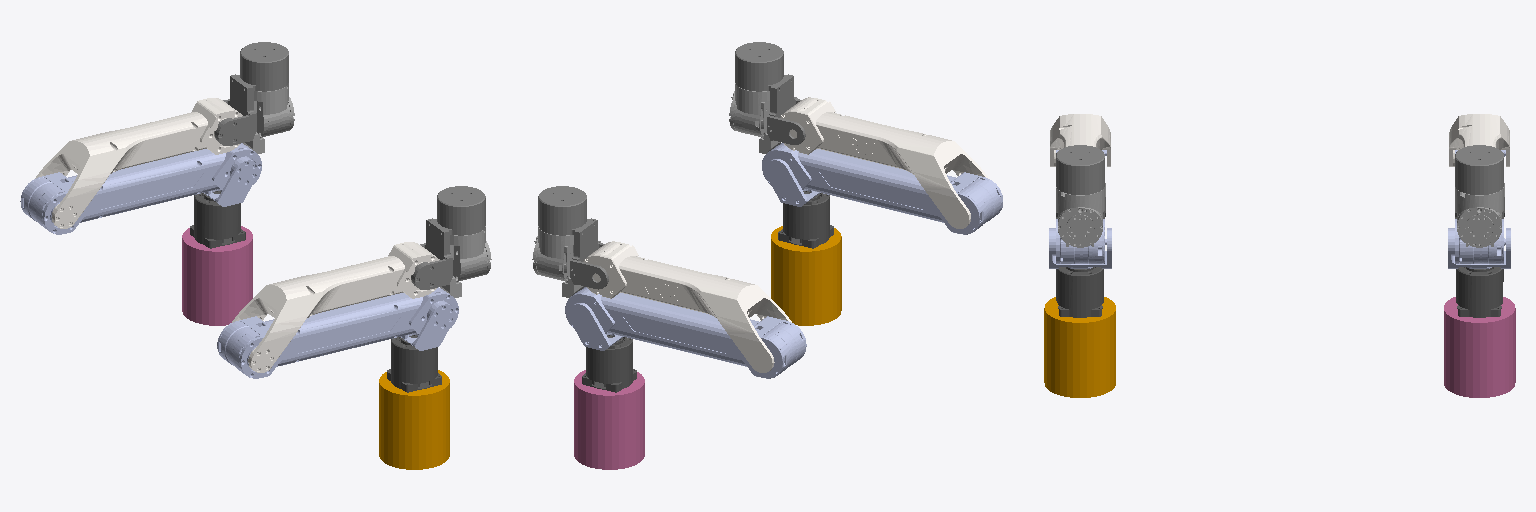
URDF robot description (dual_x5_2025_ipc_articulated_gripper):
<?xml version='1.0' encoding='utf-8'?>
<robot name="dual_x5_2025_ipc_articulated_gripper">
  <link name="base_link">
    <inertial>
      <origin xyz="-0.010039 0.0013761 0.04956" rpy="0 0 0" />
      <mass value="21.045" />
      <inertia ixx="1.70029164" ixy="-0.00073232" ixz="-0.03255532" iyy="1.70804910" iyz="-0.00688370" izz="0.97173287" />
    </inertial>
  </link>
  <link name="legacy_padding_1">
    <inertial>
      <origin xyz="0.035966 2.6831E-06 8.693E-07" rpy="0 0 0" />
      <mass value="0.5746" />
      <inertia ixx="0.00142306" ixy="0.00000000" ixz="0.00000000" iyy="0.00084449" iyz="0.00000002" izz="0.00084474" />
    </inertial>
  </link>
  <joint name="joint1" type="continuous">
    <origin xyz="0.15361 0.29246 -0.093" rpy="0 0 1.0472" />
    <parent link="base_link" />
    <child link="legacy_padding_1" />
    <axis xyz="1 0 0" />
    <limit effort="17" velocity="27" />
  </joint>
  <link name="legacy_padding_2">
    <inertial>
      <origin xyz="0.035966 2.8161E-06 7.9768E-09" rpy="0 0 0" />
      <mass value="0.5746" />
      <inertia ixx="0.00142306" ixy="0.00000000" ixz="0.00000000" iyy="0.00084449" iyz="0.00000002" izz="0.00084474" />
    </inertial>
  </link>
  <joint name="joint2" type="continuous">
    <origin xyz="0.15361 -0.29245 -0.093" rpy="0 0 -1.0472" />
    <parent link="base_link" />
    <child link="legacy_padding_2" />
    <axis xyz="1 0 0" />
    <limit effort="17" velocity="27" />
  </joint>
  <link name="legacy_padding_3">
    <inertial>
      <origin xyz="-0.035971 2.8084E-06 -1.6209E-07" rpy="0 0 0" />
      <mass value="0.5746" />
      <inertia ixx="0.00142306" ixy="0.00000000" ixz="0.00000000" iyy="0.00084449" iyz="0.00000002" izz="0.00084474" />
    </inertial>
  </link>
  <joint name="joint3" type="continuous">
    <origin xyz="-0.35293 0 -0.093" rpy="0 0 0" />
    <parent link="base_link" />
    <child link="legacy_padding_3" />
    <axis xyz="-1 0 0" />
    <limit effort="17" velocity="27" />
  </joint>
  <link name="body4">
    <inertial>
      <origin xyz="-0.053315 -0.00061422 -0.0086454" rpy="0 0 0" />
      <mass value="14.181" />
      <inertia ixx="0.32744849" ixy="-0.00306617" ixz="0.05920163" iyy="0.36541112" iyz="0.00117932" izz="0.49616592" />
    </inertial>
  </link>
  <joint name="joint4" type="fixed">
    <origin xyz="0.094118 0.0010067 0.77" rpy="0 0 0" />
    <parent link="base_link" />
    <child link="body4" />
    <axis xyz="0 0 1" />
    <limit lower="0" upper="0.46" effort="400" velocity="0.15" />
  </joint>
  <link name="left_link11">
    <inertial>
      <origin xyz="0.00542314085032451 -0.00802886588436214 0.0170855431023106" rpy="0 0 0" />
      <mass value="0.066982101964648" />
      <inertia ixx="0.00008086" ixy="0.00000207" ixz="-0.00000876" iyy="0.00003211" iyz="0.00000440" izz="0.00007702" />
    </inertial>
    <visual>
      <origin xyz="0 0 0" rpy="0 0 0" />
      <geometry>
        <mesh filename="meshes/link1.STL" />
      </geometry>
      <material name="">
        <color rgba="0.792156862745098 0.819607843137255 0.933333333333333 1" />
      </material>
    </visual>
    <collision>
      <origin xyz="0 0 0" rpy="0 0 0" />
      <geometry>
        <mesh filename="meshes/link1.STL" />
      </geometry>
    </collision>
  </link>
  <joint name="left_joint11" type="revolute">
    <origin xyz="0.059949 0.25 0.0245" rpy="0 0 0" />
    <parent link="body4" />
    <child link="left_link11" />
    <axis xyz="0 0 1" />
    <limit lower="-2.094" upper="3.1416" effort="27" velocity="5.5" />
  </joint>
  <link name="left_link12">
    <inertial>
      <origin xyz="-0.132335419642583 -0.00401655346537838 0.00010940501314316" rpy="0 0 0" />
      <mass value="1.10681273913005" />
      <inertia ixx="0.00054299" ixy="-0.00000184" ixz="0.00003884" iyy="0.01652639" iyz="-0.00000035" izz="0.01654931" />
    </inertial>
    <visual>
      <origin xyz="0 0 0" rpy="0 0 0" />
      <geometry>
        <mesh filename="meshes/link2.STL" />
      </geometry>
      <material name="">
        <color rgba="0.792156862745098 0.819607843137255 0.933333333333333 1" />
      </material>
    </visual>
    <collision>
      <origin xyz="0 0 0" rpy="0 0 0" />
      <geometry>
        <mesh filename="meshes/link2.STL" />
      </geometry>
    </collision>
  </link>
  <joint name="left_joint12" type="revolute">
    <origin xyz="0.02 0 0.04" rpy="0 0 0" />
    <parent link="left_link11" />
    <child link="left_link12" />
    <axis xyz="0 1 0" />
    <limit lower="0" upper="3.665" effort="27" velocity="5.5" />
  </joint>
  <link name="left_link13">
    <inertial>
      <origin xyz="0.185438849130002 -0.000713687803552077 0.0516279411592777" rpy="0 0 0" />
      <mass value="0.543164013838109" />
      <inertia ixx="0.00036398" ixy="-0.00002814" ixz="-0.00039418" iyy="0.00422770" iyz="-0.00001179" izz="0.00419421" />
    </inertial>
    <visual>
      <origin xyz="0 0 0" rpy="0 0 0" />
      <geometry>
        <mesh filename="meshes/link3.STL" />
      </geometry>
      <material name="">
        <color rgba="1 0.984313725490196 0.964705882352941 1" />
      </material>
    </visual>
    <collision>
      <origin xyz="0 0 0" rpy="0 0 0" />
      <geometry>
        <mesh filename="meshes/link3.STL" />
      </geometry>
    </collision>
  </link>
  <joint name="left_joint13" type="revolute">
    <origin xyz="-0.264 3E-05 0" rpy="0 0 0" />
    <parent link="left_link12" />
    <child link="left_link13" />
    <axis xyz="0 -1 0" />
    <limit lower="0" upper="3.24" effort="27" velocity="5.5" />
  </joint>
  <link name="left_link14">
    <inertial>
      <origin xyz="0.0399662666191703 -0.00430452596262934 0.0350064737242635" rpy="0 0 0" />
      <mass value="0.118272367738645" />
      <inertia ixx="0.00019329" ixy="-0.00001619" ixz="-0.00008654" iyy="0.00023401" iyz="-0.00001744" izz="0.00014391" />
    </inertial>
    <visual>
      <origin xyz="0 0 0" rpy="0 0 0" />
      <geometry>
        <mesh filename="meshes/link4.STL" />
      </geometry>
      <material name="">
        <color rgba="0.564705882352941 0.564705882352941 0.564705882352941 1" />
      </material>
    </visual>
    <collision>
      <origin xyz="0 0 0" rpy="0 0 0" />
      <geometry>
        <mesh filename="meshes/link4.STL" />
      </geometry>
    </collision>
  </link>
  <joint name="left_joint14" type="revolute">
    <origin xyz="0.245 -3E-05 0.056" rpy="0 0 0" />
    <parent link="left_link13" />
    <child link="left_link14" />
    <axis xyz="0 -1 0" />
    <limit lower="-1.571" upper="1.571" effort="7" velocity="20" />
  </joint>
  <link name="left_link15">
    <inertial>
      <origin xyz="0.00294914453074186 8.40861931291625E-05 -0.0547949421237858" rpy="0 0 0" />
      <mass value="0.673984769720165" />
      <inertia ixx="0.00092704" ixy="0.00000049" ixz="0.00004559" iyy="0.00091568" iyz="0.00000053" izz="0.00028327" />
    </inertial>
    <visual>
      <origin xyz="0 0 0" rpy="0 0 0" />
      <geometry>
        <mesh filename="meshes/link5.STL" />
      </geometry>
      <material name="">
        <color rgba="0.698039215686274 0.698039215686274 0.698039215686274 1" />
      </material>
    </visual>
    <collision>
      <origin xyz="0 0 0" rpy="0 0 0" />
      <geometry>
        <mesh filename="meshes/left_link15_ipc_hull.obj" />
      </geometry>
    </collision>
  </link>
  <joint name="left_joint15" type="revolute">
    <origin xyz="0.06775 0 0.0845" rpy="0 0 0" />
    <parent link="left_link14" />
    <child link="left_link15" />
    <axis xyz="0 0 -1" />
    <limit lower="-1.571" upper="1.571" effort="7" velocity="20" />
  </joint>
  <link name="left_link16">
    <inertial>
      <origin xyz="0.040212 3.4542E-05 -0.010225" rpy="0 0 0" />
      <mass value="0.34667" />
      <inertia ixx="0.00047210" ixy="-0.00000041" ixz="-0.00002976" iyy="0.00049011" iyz="-0.00003393" izz="0.00018496" />
    </inertial>
    <visual>
      <origin xyz="0 0 0" rpy="0 0 0" />
      <geometry>
        <mesh filename="meshes/62449317_left_link16.STL" />
      </geometry>
      <material name="">
        <color rgba="0.89804 0.91765 0.92941 1" />
      </material>
    </visual>
    <collision>
      <origin xyz="0 0 0" rpy="0 0 0" />
      <geometry>
        <mesh filename="meshes/left_link16_ipc_hull.obj" />
      </geometry>
    </collision>
  </link>
  <joint name="left_joint16" type="revolute">
    <origin xyz="0.02895 0 -0.0845" rpy="0 0 0" />
    <parent link="left_link15" />
    <child link="left_link16" />
    <axis xyz="1 0 0" />
    <limit lower="-1.9635" upper="2.094" effort="7" velocity="20" />
  </joint>
  <link name="left_link17">
    <inertial>
      <origin xyz="-0.0060354 -0.015602 0.013499" rpy="0 0 0" />
      <mass value="0.08924" />
      <inertia ixx="0.00009869" ixy="-0.00000394" ixz="0.00001011" iyy="0.00009021" iyz="0.00001113" izz="0.00006849" />
    </inertial>
    <visual>
      <origin xyz="0 0 0" rpy="0 0 0" />
      <geometry>
        <mesh filename="meshes/456a019e_left_link17.STL" />
      </geometry>
      <material name="">
        <color rgba="1 1 1 1" />
      </material>
    </visual>
    <collision>
      <origin xyz="0 0 0" rpy="0 0 0" />
      <geometry>
        <mesh filename="meshes/456a019e_left_link17.STL" />
      </geometry>
    </collision>
  </link>
  <joint name="left_joint17" type="prismatic">
    <origin xyz="0.08397 0.02721 -0.0062702" rpy="0 0 0" />
    <parent link="left_link16" />
    <child link="left_link17" />
    <axis xyz="0 1 0" />
    <limit lower="0" upper="0.044" effort="300" velocity="0.053" />
  </joint>
  <link name="left_link18">
    <inertial>
      <origin xyz="-0.00581 0.015593 -0.012255" rpy="0 0 0" />
      <mass value="0.089402" />
      <inertia ixx="0.00007306" ixy="0.00000404" ixz="-0.00001526" iyy="0.00006428" iyz="0.00000327" izz="0.00006822" />
    </inertial>
    <visual>
      <origin xyz="0 0 0" rpy="0 0 0" />
      <geometry>
        <mesh filename="meshes/e3fbb293_left_link18.STL" />
      </geometry>
      <material name="">
        <color rgba="1 1 1 1" />
      </material>
    </visual>
    <collision>
      <origin xyz="0 0 0" rpy="0 0 0" />
      <geometry>
        <mesh filename="meshes/e3fbb293_left_link18.STL" />
      </geometry>
    </collision>
  </link>
  <joint name="left_joint18" type="prismatic">
    <origin xyz="0.08397 -0.023638 -0.0062703" rpy="0 0 0" />
    <parent link="left_link16" />
    <child link="left_link18" />
    <axis xyz="0 -1 0" />
    <limit lower="0" upper="0.044" effort="300" velocity="0.053" />
  </joint>
  <link name="right_link21">
    <inertial>
      <origin xyz="0.00542314085032451 -0.00802886588436214 0.0170855431023106" rpy="0 0 0" />
      <mass value="0.066982101964648" />
      <inertia ixx="0.00008086" ixy="0.00000207" ixz="-0.00000876" iyy="0.00003211" iyz="0.00000440" izz="0.00007702" />
    </inertial>
    <visual>
      <origin xyz="0 0 0" rpy="0 0 0" />
      <geometry>
        <mesh filename="meshes/link1.STL" />
      </geometry>
      <material name="">
        <color rgba="0.792156862745098 0.819607843137255 0.933333333333333 1" />
      </material>
    </visual>
    <collision>
      <origin xyz="0 0 0" rpy="0 0 0" />
      <geometry>
        <mesh filename="meshes/link1.STL" />
      </geometry>
    </collision>
  </link>
  <joint name="right_joint21" type="revolute">
    <origin xyz="0.059949 -0.25 0.0245" rpy="0 0 0" />
    <parent link="body4" />
    <child link="right_link21" />
    <axis xyz="0 0 1" />
    <limit lower="-2.094" upper="3.1416" effort="27" velocity="5.5" />
  </joint>
  <link name="right_link22">
    <inertial>
      <origin xyz="-0.132335419642583 -0.00401655346537838 0.00010940501314316" rpy="0 0 0" />
      <mass value="1.10681273913005" />
      <inertia ixx="0.00054299" ixy="-0.00000184" ixz="0.00003884" iyy="0.01652639" iyz="-0.00000035" izz="0.01654931" />
    </inertial>
    <visual>
      <origin xyz="0 0 0" rpy="0 0 0" />
      <geometry>
        <mesh filename="meshes/link2.STL" />
      </geometry>
      <material name="">
        <color rgba="0.792156862745098 0.819607843137255 0.933333333333333 1" />
      </material>
    </visual>
    <collision>
      <origin xyz="0 0 0" rpy="0 0 0" />
      <geometry>
        <mesh filename="meshes/link2.STL" />
      </geometry>
    </collision>
  </link>
  <joint name="right_joint22" type="revolute">
    <origin xyz="0.02 0 0.04" rpy="0 0 0" />
    <parent link="right_link21" />
    <child link="right_link22" />
    <axis xyz="0 1 0" />
    <limit lower="0" upper="3.665" effort="27" velocity="5.5" />
  </joint>
  <link name="right_link23">
    <inertial>
      <origin xyz="0.185438849130002 -0.000713687803552077 0.0516279411592777" rpy="0 0 0" />
      <mass value="0.543164013838109" />
      <inertia ixx="0.00036398" ixy="-0.00002814" ixz="-0.00039418" iyy="0.00422770" iyz="-0.00001179" izz="0.00419421" />
    </inertial>
    <visual>
      <origin xyz="0 0 0" rpy="0 0 0" />
      <geometry>
        <mesh filename="meshes/link3.STL" />
      </geometry>
      <material name="">
        <color rgba="1 0.984313725490196 0.964705882352941 1" />
      </material>
    </visual>
    <collision>
      <origin xyz="0 0 0" rpy="0 0 0" />
      <geometry>
        <mesh filename="meshes/link3.STL" />
      </geometry>
    </collision>
  </link>
  <joint name="right_joint23" type="revolute">
    <origin xyz="-0.264 3E-05 0" rpy="0 0 0" />
    <parent link="right_link22" />
    <child link="right_link23" />
    <axis xyz="0 -1 0" />
    <limit lower="0" upper="3.24" effort="27" velocity="5.5" />
  </joint>
  <link name="right_link24">
    <inertial>
      <origin xyz="0.0399662666191703 -0.00430452596262934 0.0350064737242635" rpy="0 0 0" />
      <mass value="0.118272367738645" />
      <inertia ixx="0.00019329" ixy="-0.00001619" ixz="-0.00008654" iyy="0.00023401" iyz="-0.00001744" izz="0.00014391" />
    </inertial>
    <visual>
      <origin xyz="0 0 0" rpy="0 0 0" />
      <geometry>
        <mesh filename="meshes/link4.STL" />
      </geometry>
      <material name="">
        <color rgba="0.564705882352941 0.564705882352941 0.564705882352941 1" />
      </material>
    </visual>
    <collision>
      <origin xyz="0 0 0" rpy="0 0 0" />
      <geometry>
        <mesh filename="meshes/link4.STL" />
      </geometry>
    </collision>
  </link>
  <joint name="right_joint24" type="revolute">
    <origin xyz="0.245 -3E-05 0.056" rpy="0 0 0" />
    <parent link="right_link23" />
    <child link="right_link24" />
    <axis xyz="0 -1 0" />
    <limit lower="-1.571" upper="1.571" effort="7" velocity="20" />
  </joint>
  <link name="right_link25">
    <inertial>
      <origin xyz="0.00294914453074186 8.40861931291625E-05 -0.0547949421237858" rpy="0 0 0" />
      <mass value="0.673984769720165" />
      <inertia ixx="0.00092704" ixy="0.00000049" ixz="0.00004559" iyy="0.00091568" iyz="0.00000053" izz="0.00028327" />
    </inertial>
    <visual>
      <origin xyz="0 0 0" rpy="0 0 0" />
      <geometry>
        <mesh filename="meshes/link5.STL" />
      </geometry>
      <material name="">
        <color rgba="0.698039215686274 0.698039215686274 0.698039215686274 1" />
      </material>
    </visual>
    <collision>
      <origin xyz="0 0 0" rpy="0 0 0" />
      <geometry>
        <mesh filename="meshes/right_link25_ipc_hull.obj" />
      </geometry>
    </collision>
  </link>
  <joint name="right_joint25" type="revolute">
    <origin xyz="0.06775 0 0.0845" rpy="0 0 0" />
    <parent link="right_link24" />
    <child link="right_link25" />
    <axis xyz="0 0 -1" />
    <limit lower="-1.571" upper="1.571" effort="7" velocity="20" />
  </joint>
  <link name="right_link26">
    <inertial>
      <origin xyz="0.040212 3.4542E-05 -0.010225" rpy="0 0 0" />
      <mass value="0.34667" />
      <inertia ixx="0.00047210" ixy="-0.00000041" ixz="-0.00002976" iyy="0.00049011" iyz="-0.00003393" izz="0.00018496" />
    </inertial>
    <visual>
      <origin xyz="0 0 0" rpy="0 0 0" />
      <geometry>
        <mesh filename="meshes/8d891049_right_link26.STL" />
      </geometry>
      <material name="">
        <color rgba="0.89804 0.91765 0.92941 1" />
      </material>
    </visual>
    <collision>
      <origin xyz="0 0 0" rpy="0 0 0" />
      <geometry>
        <mesh filename="meshes/right_link26_ipc_hull.obj" />
      </geometry>
    </collision>
  </link>
  <joint name="right_joint26" type="revolute">
    <origin xyz="0.02895 0 -0.0845" rpy="0 0 0" />
    <parent link="right_link25" />
    <child link="right_link26" />
    <axis xyz="1 0 0" />
    <limit lower="-1.9635" upper="2.094" effort="7" velocity="20" />
  </joint>
  <link name="right_link27">
    <inertial>
      <origin xyz="-0.0060354 -0.015602 0.013499" rpy="0 0 0" />
      <mass value="0.08924" />
      <inertia ixx="0.00009869" ixy="-0.00000394" ixz="0.00001011" iyy="0.00009021" iyz="0.00001113" izz="0.00006849" />
    </inertial>
    <visual>
      <origin xyz="0 0 0" rpy="0 0 0" />
      <geometry>
        <mesh filename="meshes/d17ab828_right_link27.STL" />
      </geometry>
      <material name="">
        <color rgba="1 1 1 1" />
      </material>
    </visual>
    <collision>
      <origin xyz="0 0 0" rpy="0 0 0" />
      <geometry>
        <mesh filename="meshes/d17ab828_right_link27.STL" />
      </geometry>
    </collision>
  </link>
  <joint name="right_joint27" type="prismatic">
    <origin xyz="0.08397 0.02721 -0.0062702" rpy="0 0 0" />
    <parent link="right_link26" />
    <child link="right_link27" />
    <axis xyz="0 1 0" />
    <limit lower="0" upper="0.044" effort="300" velocity="0.053" />
  </joint>
  <link name="right_link28">
    <inertial>
      <origin xyz="-0.00581 0.015593 -0.012255" rpy="0 0 0" />
      <mass value="0.089402" />
      <inertia ixx="0.00007306" ixy="0.00000404" ixz="-0.00001526" iyy="0.00006428" iyz="0.00000327" izz="0.00006822" />
    </inertial>
    <visual>
      <origin xyz="0 0 0" rpy="0 0 0" />
      <geometry>
        <mesh filename="meshes/98b471b0_right_link28.STL" />
      </geometry>
      <material name="">
        <color rgba="1 1 1 1" />
      </material>
    </visual>
    <collision>
      <origin xyz="0 0 0" rpy="0 0 0" />
      <geometry>
        <mesh filename="meshes/98b471b0_right_link28.STL" />
      </geometry>
    </collision>
  </link>
  <joint name="right_joint28" type="prismatic">
    <origin xyz="0.08397 -0.023638 -0.0062703" rpy="0 0 0" />
    <parent link="right_link26" />
    <child link="right_link28" />
    <axis xyz="0 -1 0" />
    <limit lower="0" upper="0.044" effort="300" velocity="0.053" />
  </joint>
  <link name="left_x5_base">
    <inertial>
      <origin xyz="-2.77E-05 3.2821E-05 0.034516" rpy="0 0 0" />
      <mass value="0.45749" />
      <inertia ixx="0.00019677" ixy="0.00000035" ixz="0.00000051" iyy="0.00019854" iyz="-0.00000100" izz="0.00019572" />
    </inertial>
    <visual>
      <origin xyz="0 0 0" rpy="0 0 0" />
      <geometry>
        <mesh filename="meshes/base_link.STL" />
      </geometry>
      <material name="">
        <color rgba="0.41176 0.41176 0.41176 1" />
      </material>
    </visual>
    <collision>
      <origin xyz="0 0 0" rpy="0 0 0" />
      <geometry>
        <mesh filename="meshes/base_link.STL" />
      </geometry>
    </collision>
  </link>
  <joint name="left_x5_base_mount" type="fixed">
    <parent link="body4" />
    <child link="left_x5_base" />
    <origin xyz=".059949 0.25 -.036" rpy="0 0 0" />
  </joint>
  <link name="left_x5_pedestal">
    <visual>
      <origin xyz="0 0 0" rpy="0 0 0" />
      <geometry>
        <cylinder radius=".045" length=".104" />
      </geometry>
    </visual>
    <collision>
      <origin xyz="0 0 0" rpy="0 0 0" />
      <geometry>
        <cylinder radius=".045" length=".104" />
      </geometry>
    </collision>
  </link>
  <joint name="left_x5_pedestal_mount" type="fixed">
    <parent link="body4" />
    <child link="left_x5_pedestal" />
    <origin xyz=".059949 0.25 -.088" rpy="0 0 0" />
  </joint>
  <link name="right_x5_base">
    <inertial>
      <origin xyz="-2.77E-05 3.2821E-05 0.034516" rpy="0 0 0" />
      <mass value="0.45749" />
      <inertia ixx="0.00019677" ixy="0.00000035" ixz="0.00000051" iyy="0.00019854" iyz="-0.00000100" izz="0.00019572" />
    </inertial>
    <visual>
      <origin xyz="0 0 0" rpy="0 0 0" />
      <geometry>
        <mesh filename="meshes/base_link.STL" />
      </geometry>
      <material name="">
        <color rgba="0.41176 0.41176 0.41176 1" />
      </material>
    </visual>
    <collision>
      <origin xyz="0 0 0" rpy="0 0 0" />
      <geometry>
        <mesh filename="meshes/base_link.STL" />
      </geometry>
    </collision>
  </link>
  <joint name="right_x5_base_mount" type="fixed">
    <parent link="body4" />
    <child link="right_x5_base" />
    <origin xyz=".059949 -0.25 -.036" rpy="0 0 0" />
  </joint>
  <link name="right_x5_pedestal">
    <visual>
      <origin xyz="0 0 0" rpy="0 0 0" />
      <geometry>
        <cylinder radius=".045" length=".104" />
      </geometry>
    </visual>
    <collision>
      <origin xyz="0 0 0" rpy="0 0 0" />
      <geometry>
        <cylinder radius=".045" length=".104" />
      </geometry>
    </collision>
  </link>
  <joint name="right_x5_pedestal_mount" type="fixed">
    <parent link="body4" />
    <child link="right_x5_pedestal" />
    <origin xyz=".059949 -0.25 -.088" rpy="0 0 0" />
  </joint>
</robot>

--- What the picture shows (computed from the rendered views, not written in the file) ---
3 views of the same robot in one strip: view 1: azimuth 30°, elevation 25°; view 2: azimuth 150°, elevation 25°; view 3: azimuth 270°, elevation 25° (orthographic).
Model dual_x5_2025_ipc_articulated_gripper with 25 links and 24 joints (12 revolute, 3 continuous, 4 prismatic, 5 fixed), rooted at base_link, posed all joints at 0.
Visible links, largest first — view 1: left_link13, right_link23, right_link22, left_link12, right_x5_pedestal, left_x5_pedestal, left_link14, right_link24, left_x5_base, right_x5_base, right_link25, left_link15 (+2 smaller); view 2: right_link23, left_link13, right_link22, left_link12, left_x5_pedestal, right_x5_pedestal, left_link14, right_link24, right_x5_base, left_x5_base, left_link15, right_link25 (+2 smaller); view 3: left_x5_pedestal, right_x5_pedestal, left_link15, right_link25, left_link14, right_link24, right_x5_base, left_x5_base, left_link13, right_link23, left_link12, right_link22 (+2 smaller).
Boxes of the visible links, x1=… form: left_link13: x1=35, y1=98, x2=242, y2=228; right_link23: x1=232, y1=242, x2=439, y2=372; right_link22: x1=217, y1=287, x2=458, y2=378; left_link12: x1=20, y1=143, x2=261, y2=234; right_x5_pedestal: x1=379, y1=370, x2=449, y2=469; left_x5_pedestal: x1=182, y1=226, x2=252, y2=325; left_link14: x1=215, y1=42, x2=288, y2=145; right_link24: x1=411, y1=186, x2=485, y2=289; left_x5_base: x1=190, y1=191, x2=245, y2=248; right_x5_base: x1=387, y1=335, x2=441, y2=392; right_link25: x1=440, y1=226, x2=491, y2=297; left_link15: x1=243, y1=83, x2=294, y2=153; right_link23: x1=780, y1=97, x2=988, y2=228; left_link13: x1=583, y1=241, x2=791, y2=372; right_link22: x1=762, y1=143, x2=1002, y2=234; left_link12: x1=565, y1=287, x2=806, y2=378; left_x5_pedestal: x1=574, y1=370, x2=644, y2=469; right_x5_pedestal: x1=771, y1=226, x2=841, y2=325; left_link14: x1=538, y1=186, x2=608, y2=289; right_link24: x1=735, y1=42, x2=805, y2=144; right_x5_base: x1=778, y1=191, x2=833, y2=248; left_x5_base: x1=582, y1=335, x2=636, y2=392; left_link15: x1=532, y1=226, x2=584, y2=297; right_link25: x1=729, y1=83, x2=780, y2=153; left_x5_pedestal: x1=1444, y1=297, x2=1515, y2=397; right_x5_pedestal: x1=1044, y1=297, x2=1115, y2=397; left_link15: x1=1455, y1=187, x2=1503, y2=247; right_link25: x1=1056, y1=187, x2=1104, y2=247; left_link14: x1=1455, y1=145, x2=1504, y2=218; right_link24: x1=1056, y1=145, x2=1105, y2=218; right_x5_base: x1=1056, y1=267, x2=1103, y2=317; left_x5_base: x1=1456, y1=267, x2=1503, y2=317; left_link13: x1=1449, y1=114, x2=1509, y2=166; right_link23: x1=1050, y1=114, x2=1110, y2=166; left_link12: x1=1455, y1=150, x2=1505, y2=263; right_link22: x1=1056, y1=150, x2=1106, y2=263.
Size in the robot's own frame: 0.3727 by 0.59 by 0.347 metres.
12 mesh visuals loaded from 12 distinct referenced files (6 binary STL); not drawn: 6 (reference not matched to a file when rendering).
